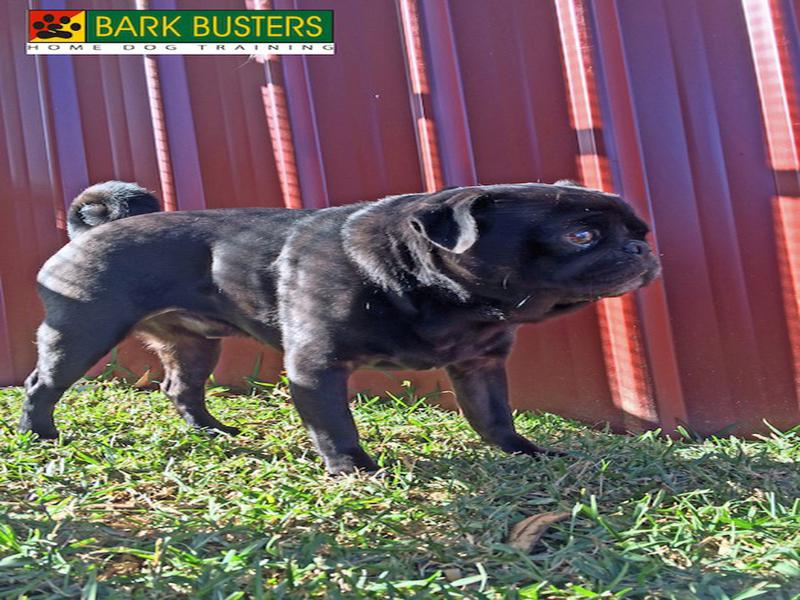dog_stand: (18, 177, 663, 472)
